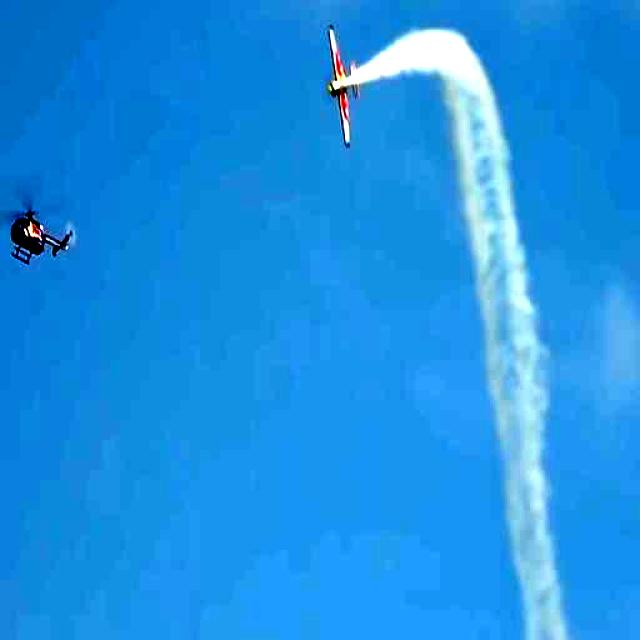drone: (1, 188, 85, 276)
